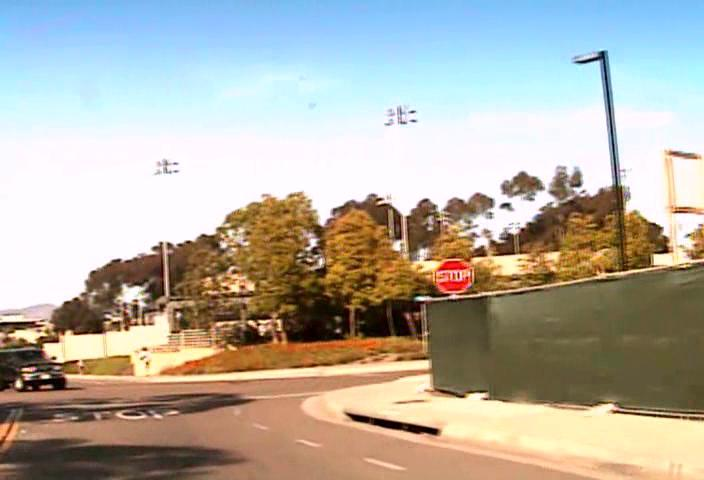stop: (433, 258, 474, 293)
